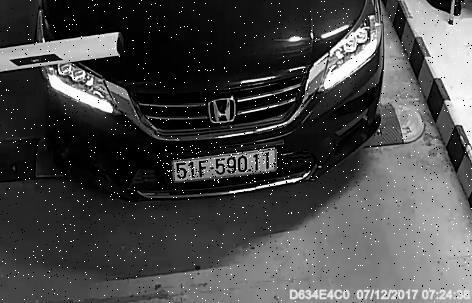License-plate: (159, 146, 291, 184)
